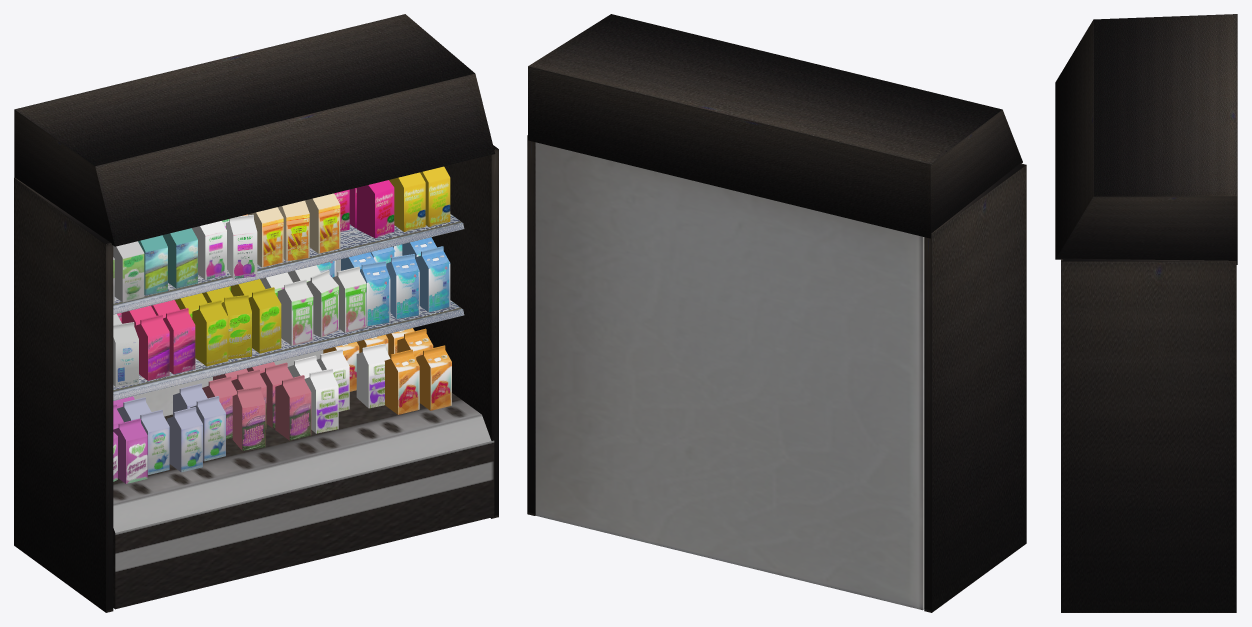
File: cold drink shelf 4.FBX
3 views of the same model, side by side, from view 1: azimuth 30°, elevation 25°; view 2: azimuth 150°, elevation 25°; view 3: azimuth 270°, elevation 25° (orthographic). The views are drawn at different scales.
Parts seen in each view (by area): view 1: Box054, Box052, Box060, Box051, 板架027, 板架028, 牛奶1175, 牛奶1138, 牛奶1183, 牛奶1168, 牛奶1145, 牛奶1216 (+32 smaller); view 2: Box053, Box054, Box060, Box051; view 3: Box051, Box054.
Boxes of the visible parts, x1,y1,x2,y2 form: Box054: (14,14,495,246); Box052: (113,390,494,609); Box060: (14,177,113,612); Box051: (413,145,498,518); 板架027: (113,300,464,400); 板架028: (113,214,464,314); 牛奶1175: (275,375,311,440); 牛奶1138: (192,300,228,366); 牛奶1183: (384,349,419,414); 牛奶1168: (167,407,202,472); 牛奶1145: (277,279,313,345); 牛奶1216: (356,180,394,238); Box053: (535,142,924,610); Box054: (528,14,1022,238); Box060: (924,163,1026,612); Box051: (527,135,535,515); Box051: (1061,258,1236,612); Box054: (1055,14,1237,264).
Bounding box in the file's own units: 1258 × 1333 × 528.
20 materials, 20 textured.
